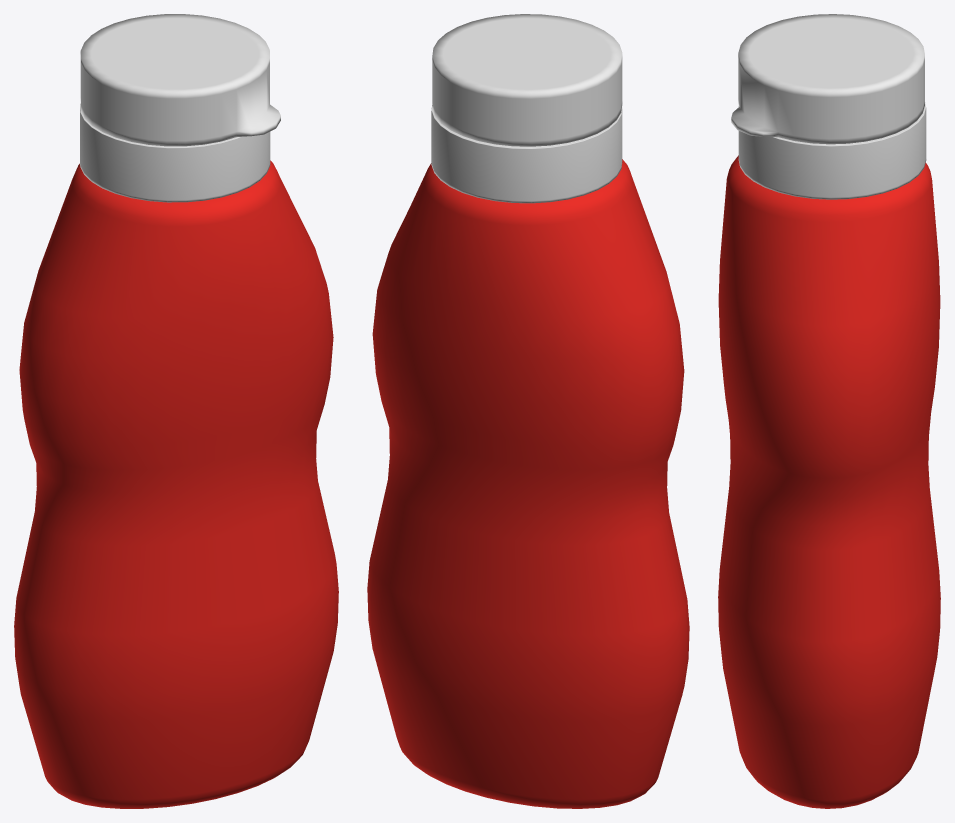
File: farmex_bottle.glb
3 renders of one model, left to right at view 1: azimuth 30°, elevation 25°; view 2: azimuth 150°, elevation 25°; view 3: azimuth 270°, elevation 25°, orthographic.
Visible parts, largest first — view 1: Suace Bottle; view 2: Suace Bottle; view 3: Suace Bottle.
Boxes of the visible parts, x1,y1,x2,y2 form: Suace Bottle: (14,14,338,808); Suace Bottle: (367,14,689,808); Suace Bottle: (718,14,940,808).
Size of the model in its own units: 0.7234 by 1.64 by 0.4687.
